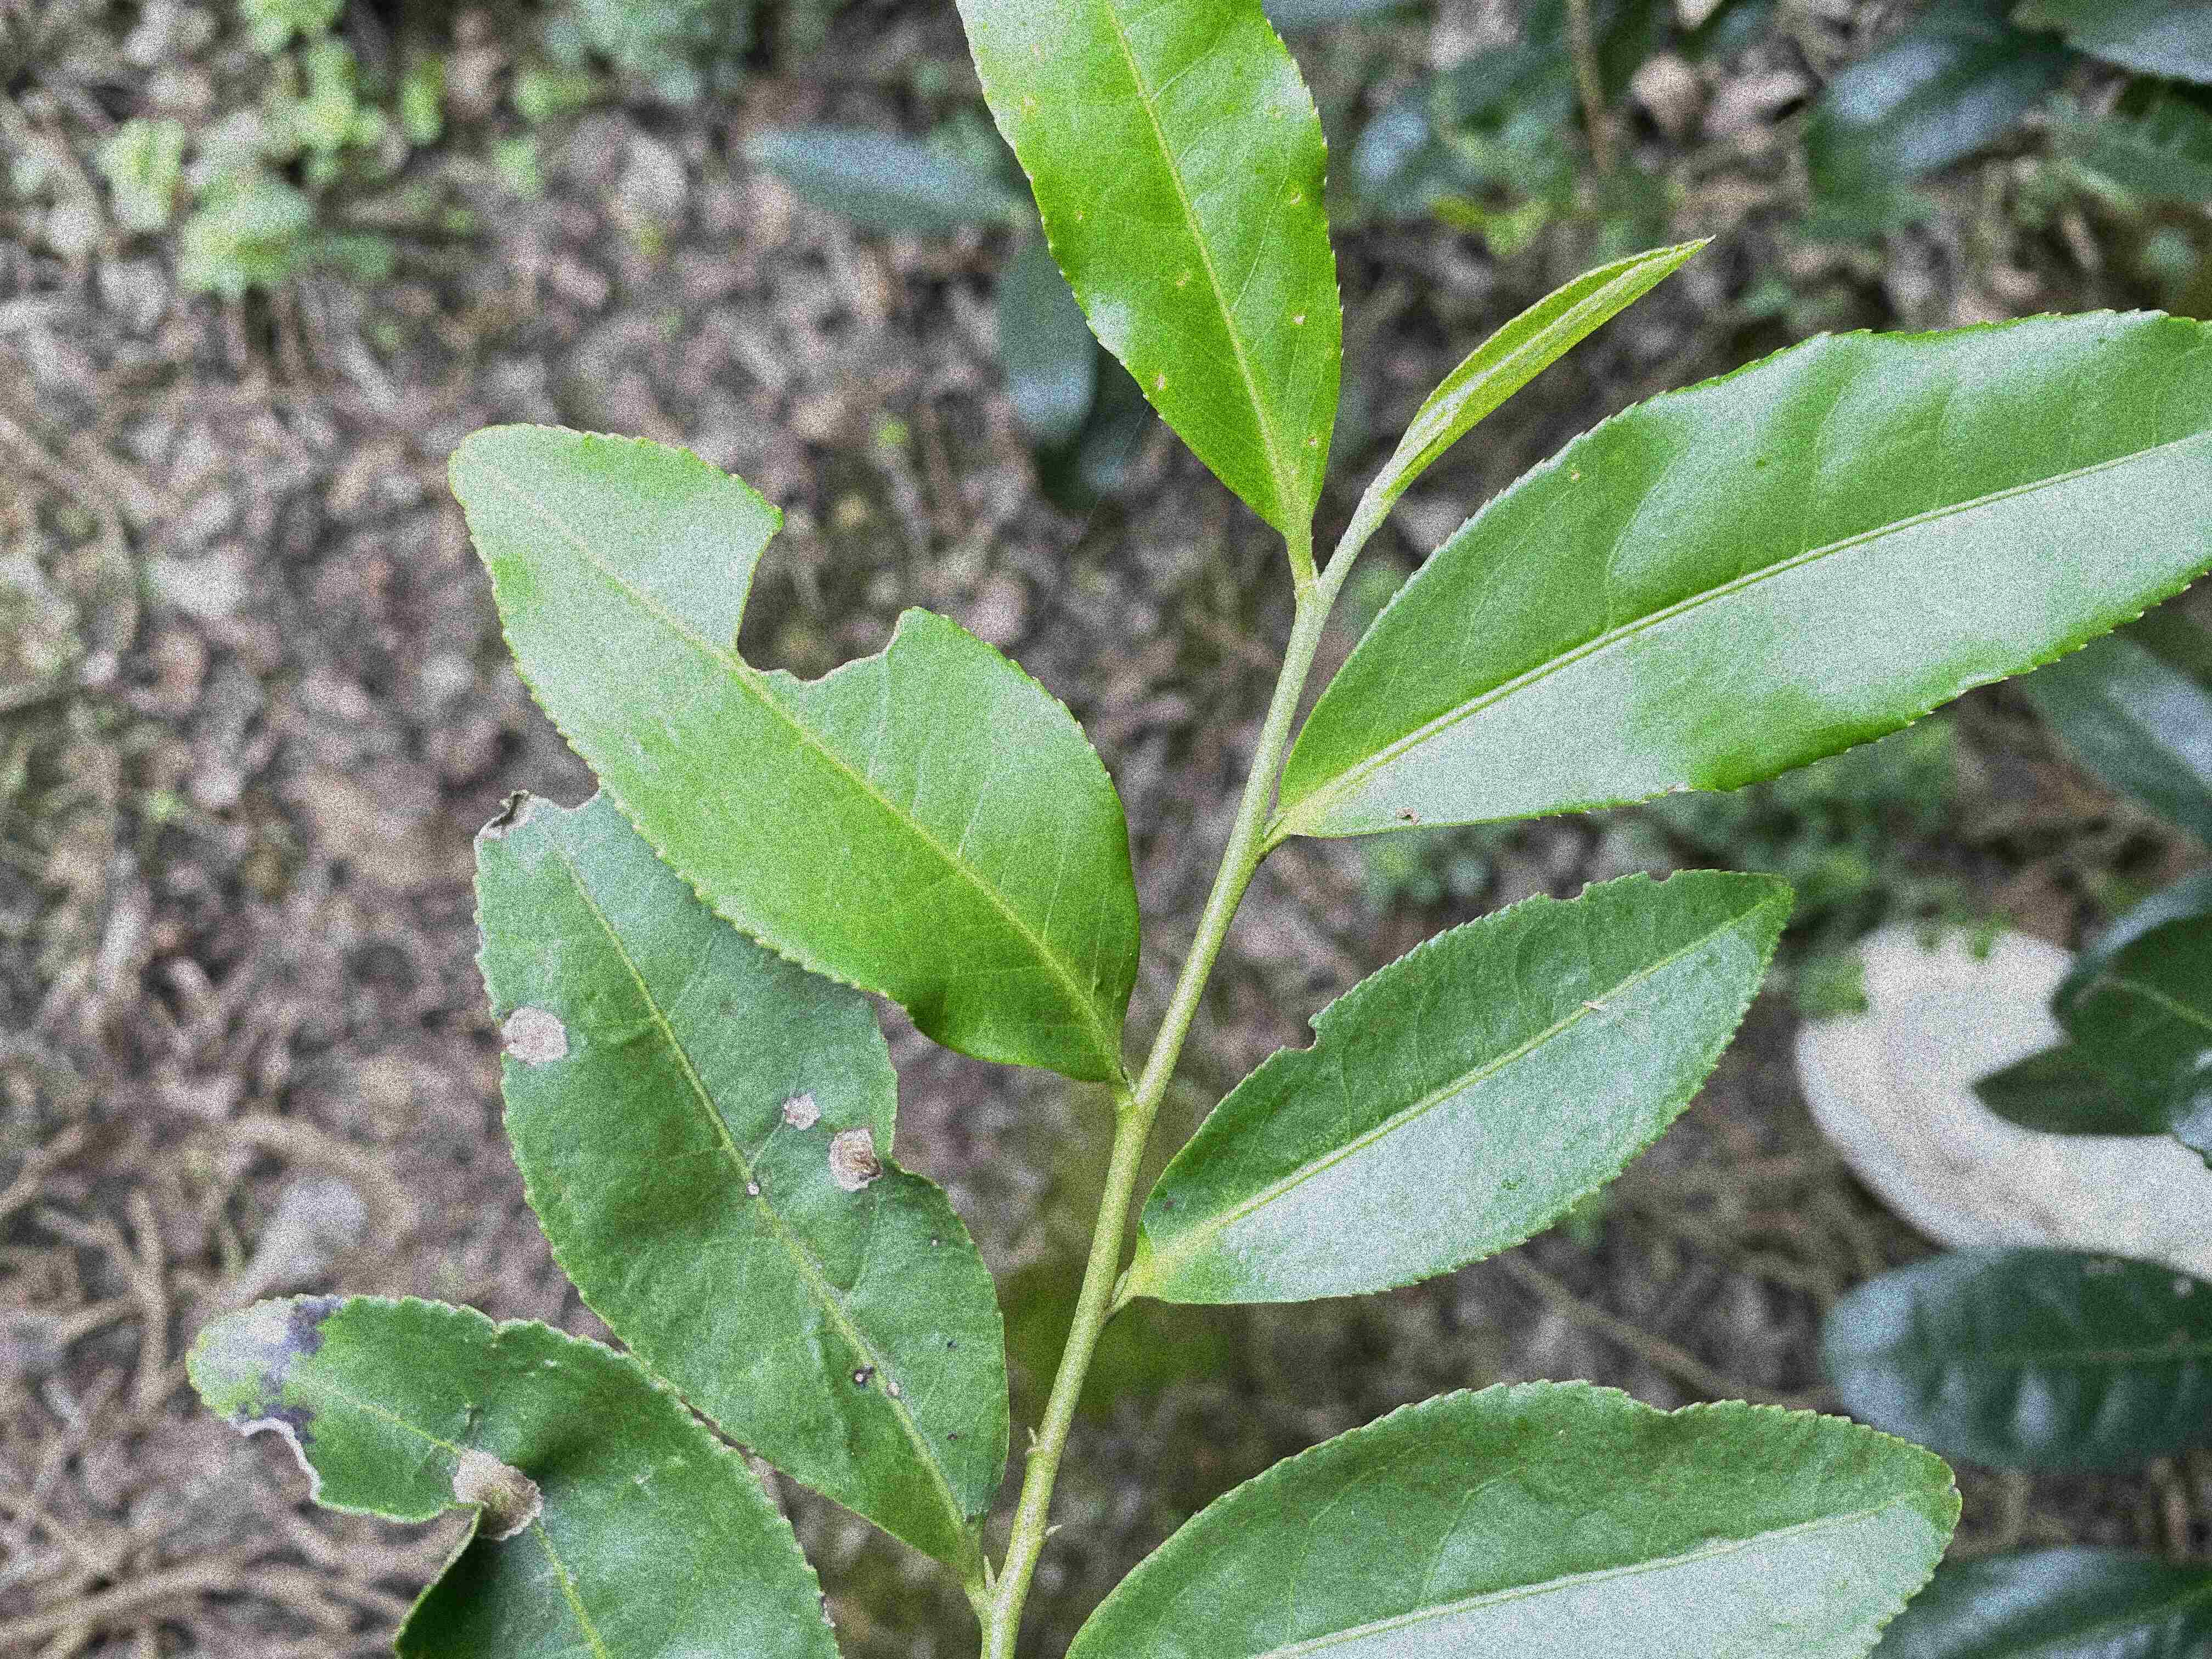chihuo_high: (1139, 866, 1797, 1307)
chihuo_low: (449, 420, 1143, 1086)
healthy: (1287, 308, 2209, 836), (1064, 1378, 1965, 1657), (946, 2, 1345, 537)
tanju_high: (469, 798, 1012, 1577)
